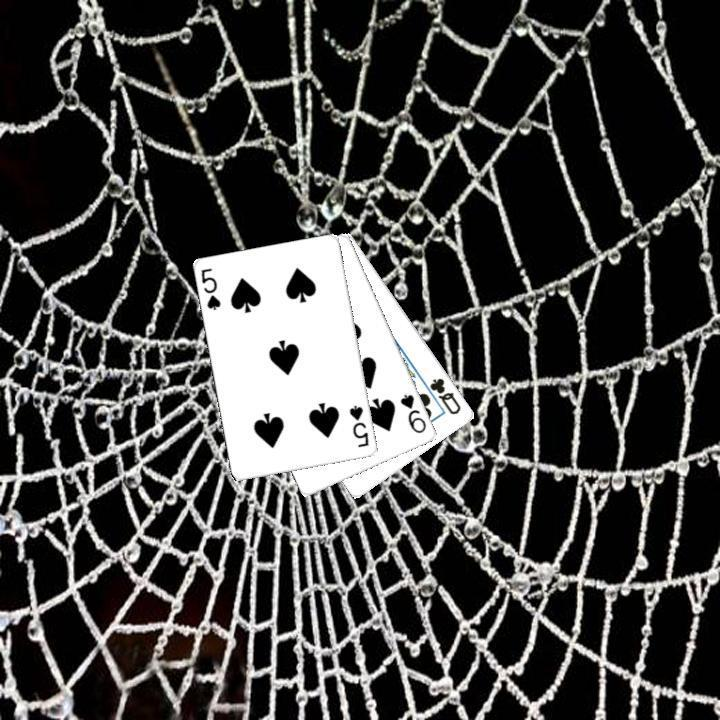5: (345, 401, 371, 450), (197, 264, 223, 313)
9: (396, 390, 429, 436)
Q: (426, 374, 463, 417)
